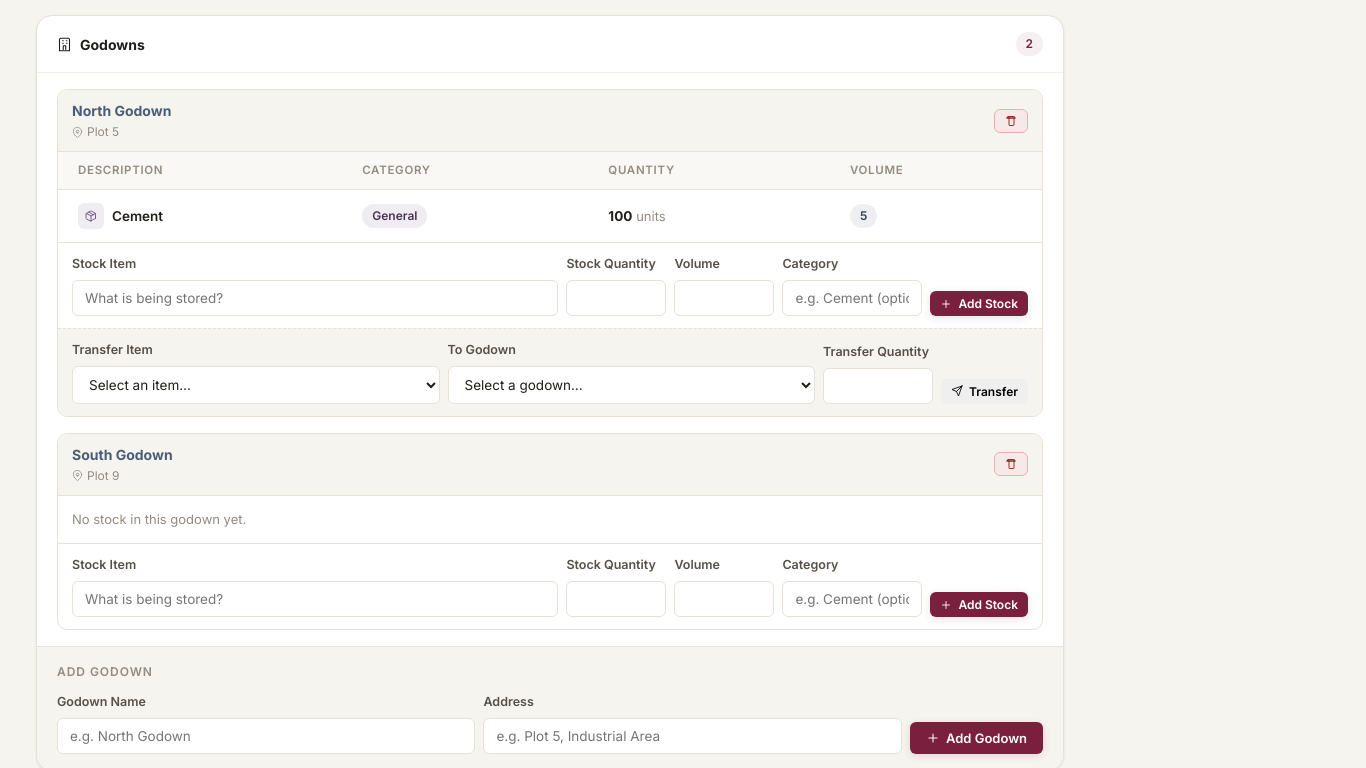
Test case: OrganizationDetail page › transfers stock from one godown to another via the inline form
This screenshot has width=1366, height=768.
(page scrolled)
Check: the link "North Godown" is shown, box [72,102,171,119]
Select "Cement" in the dropdown labelled "Transfer Item" at (256, 385), box [72,366,440,404]
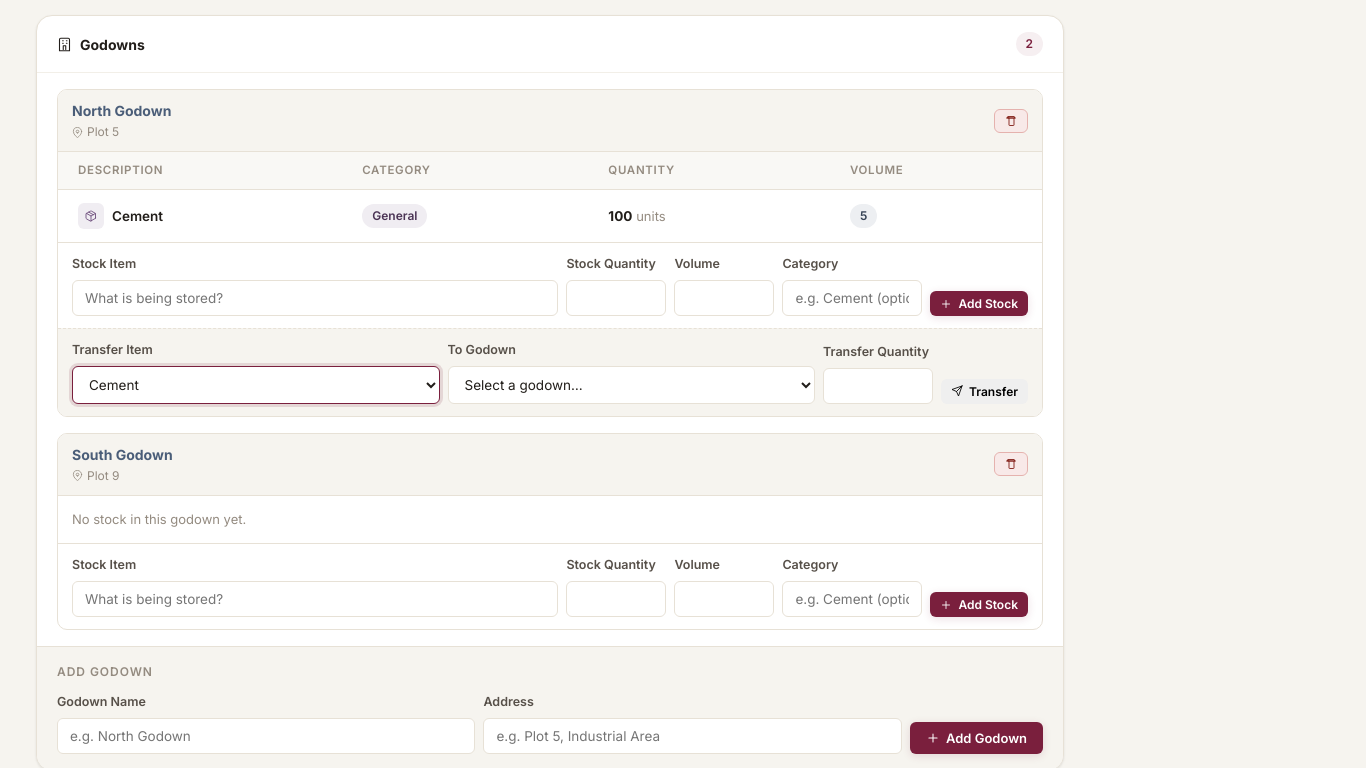
Select "South Godown" in the dropdown labelled "To Godown" at (631, 385), box [448,366,815,404]
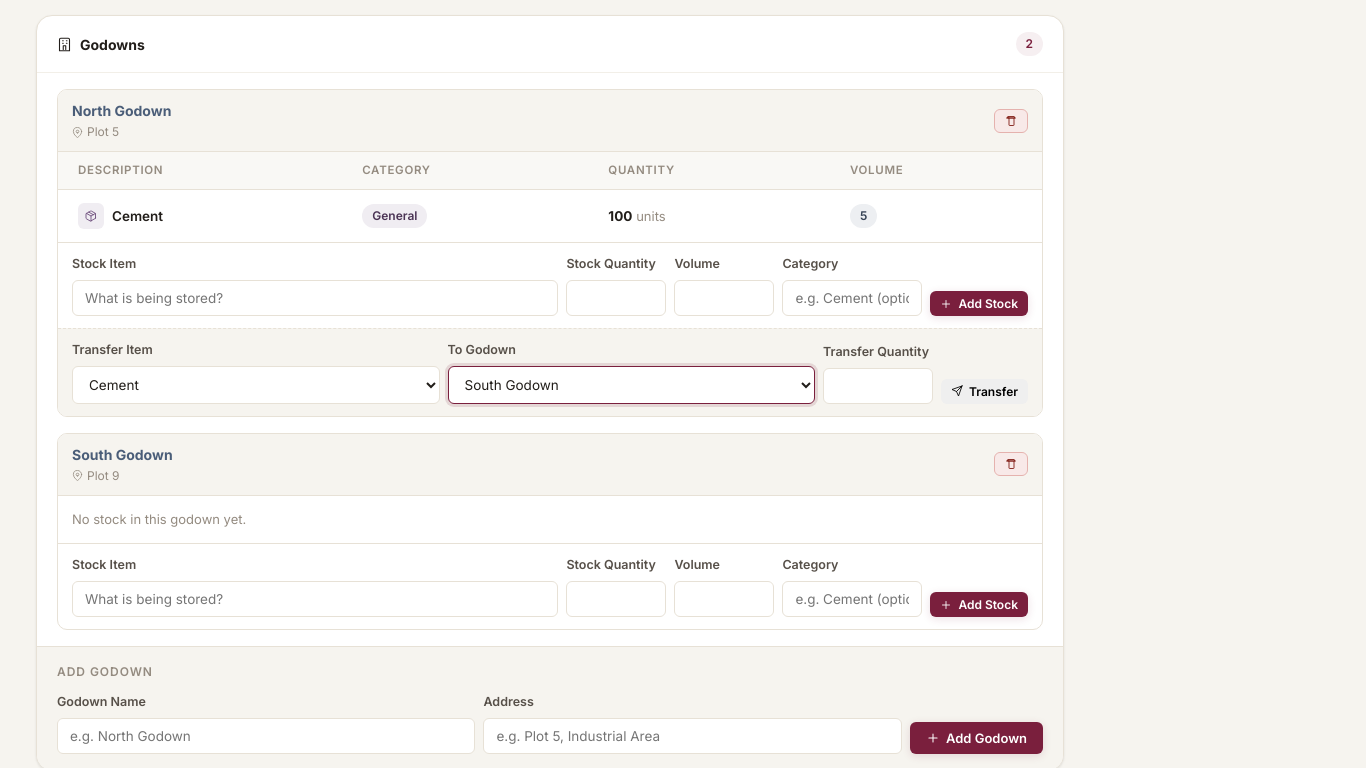
Type "30" into the number field labelled "Transfer Quantity" at (878, 386), box [823,368,933,404]
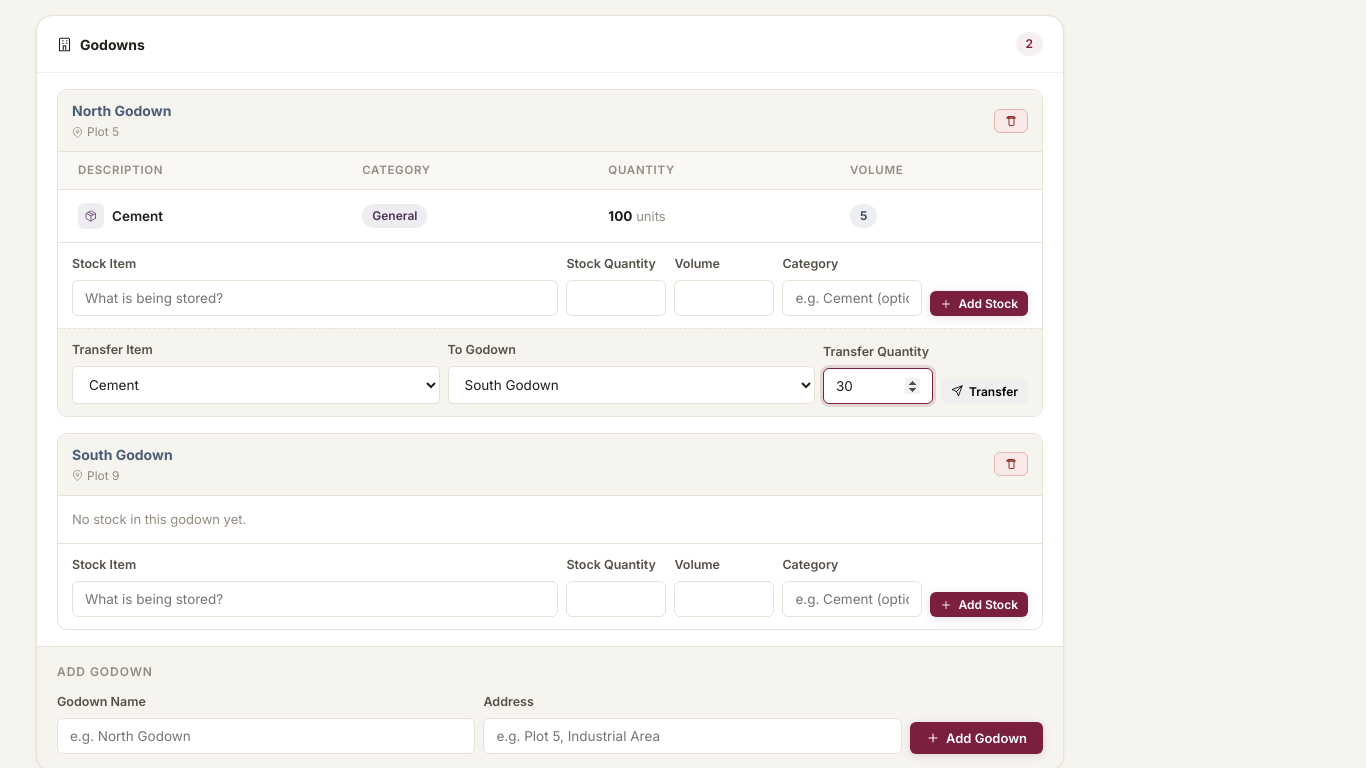
Click the button "Transfer" at (984, 391), box [941,379,1028,404]
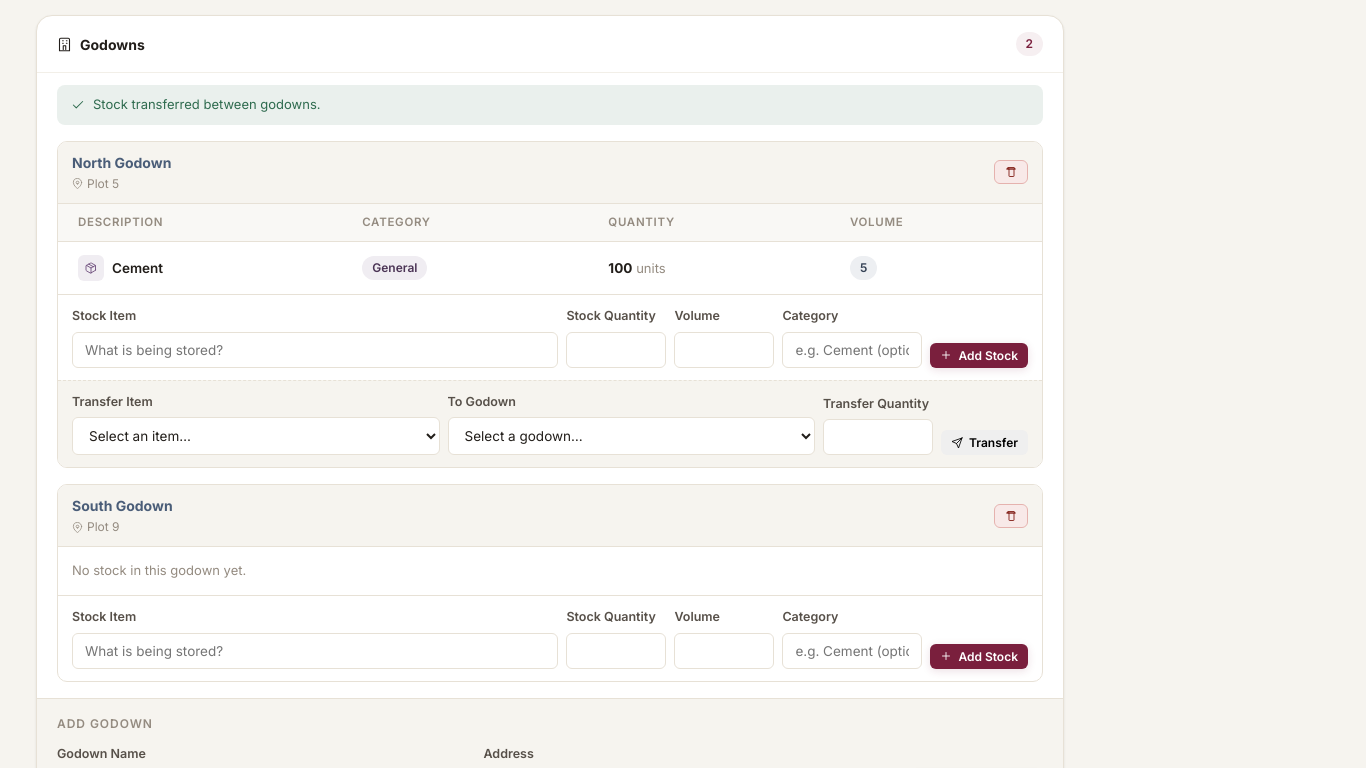
Check: the text "Stock transferred between godowns." is shown, box [57,85,1043,124]
